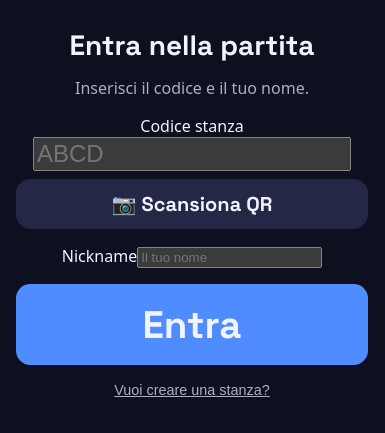
Test: PlayerApp › shows the error when the user explicitly submits a bad code
The width and height of the screenshot is (385, 433).
Type "WXYZ" into the field with placeholder "ABCD" at (192, 154), box [33, 137, 351, 171]
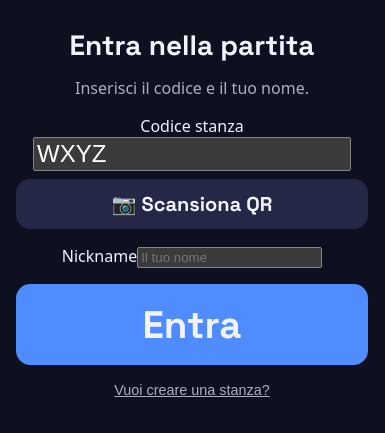
Type "Anna" into the field with placeholder "Il tuo nome" at (230, 258), box [137, 247, 322, 268]
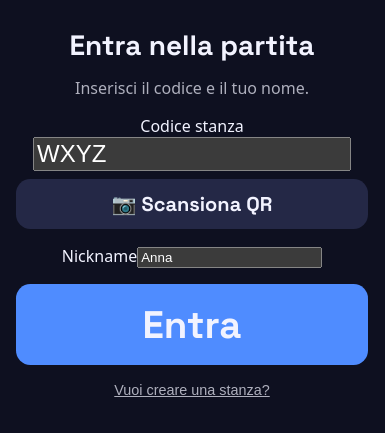
Click the button "Entra" at (192, 325), box [16, 284, 368, 365]
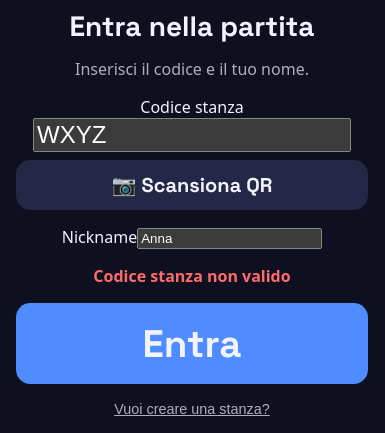
Expected: the text "Codice stanza non valido" is shown, [93, 265, 291, 287]
